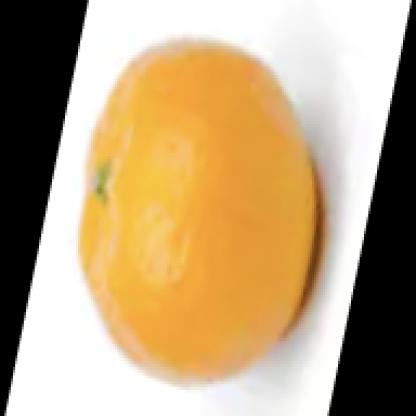fresh: (79, 36, 322, 381)
